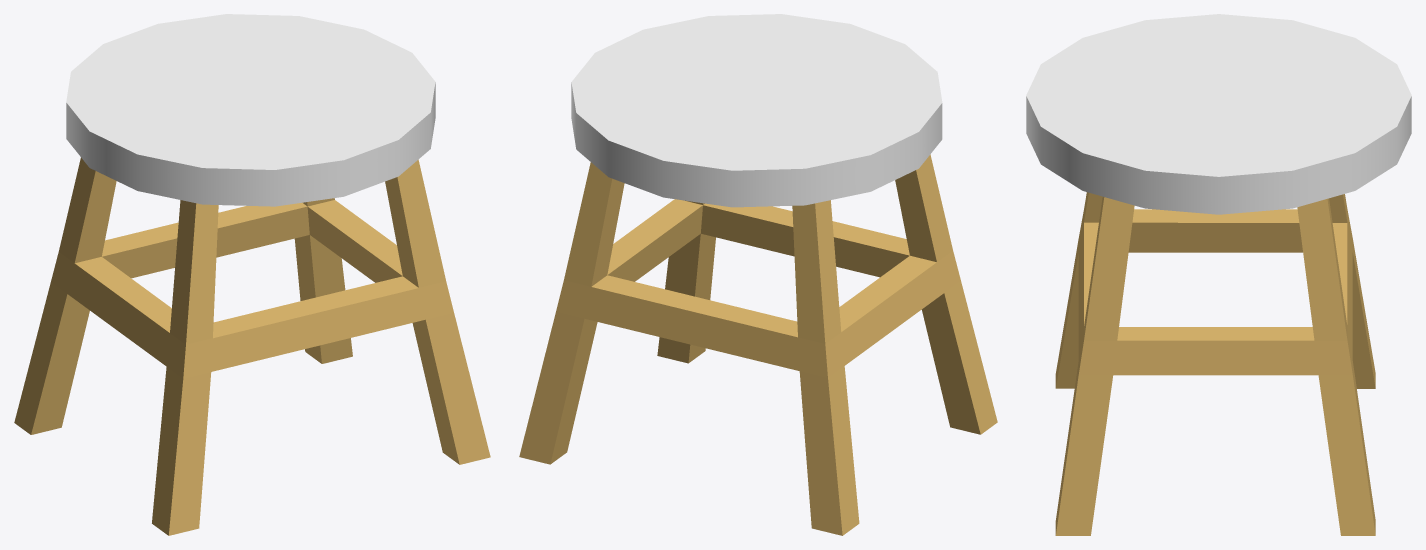
The model's file is Chair_Level_01.fbx.
The picture shows the model from 3 angles, left to right: view 1: azimuth 30°, elevation 25°; view 2: azimuth 150°, elevation 25°; view 3: azimuth 270°, elevation 25°; orthographic projection. The views are drawn at different scales.
Parts seen in each view (by area): view 1: Chair_Level_01; view 2: Chair_Level_01; view 3: Chair_Level_01.
Boxes of the visible parts, x1,y1,x2,y2 form: Chair_Level_01: [14, 14, 490, 535]; Chair_Level_01: [519, 14, 997, 535]; Chair_Level_01: [1026, 14, 1411, 535].
Bounding box in the file's own units: 167 × 171 × 167.
